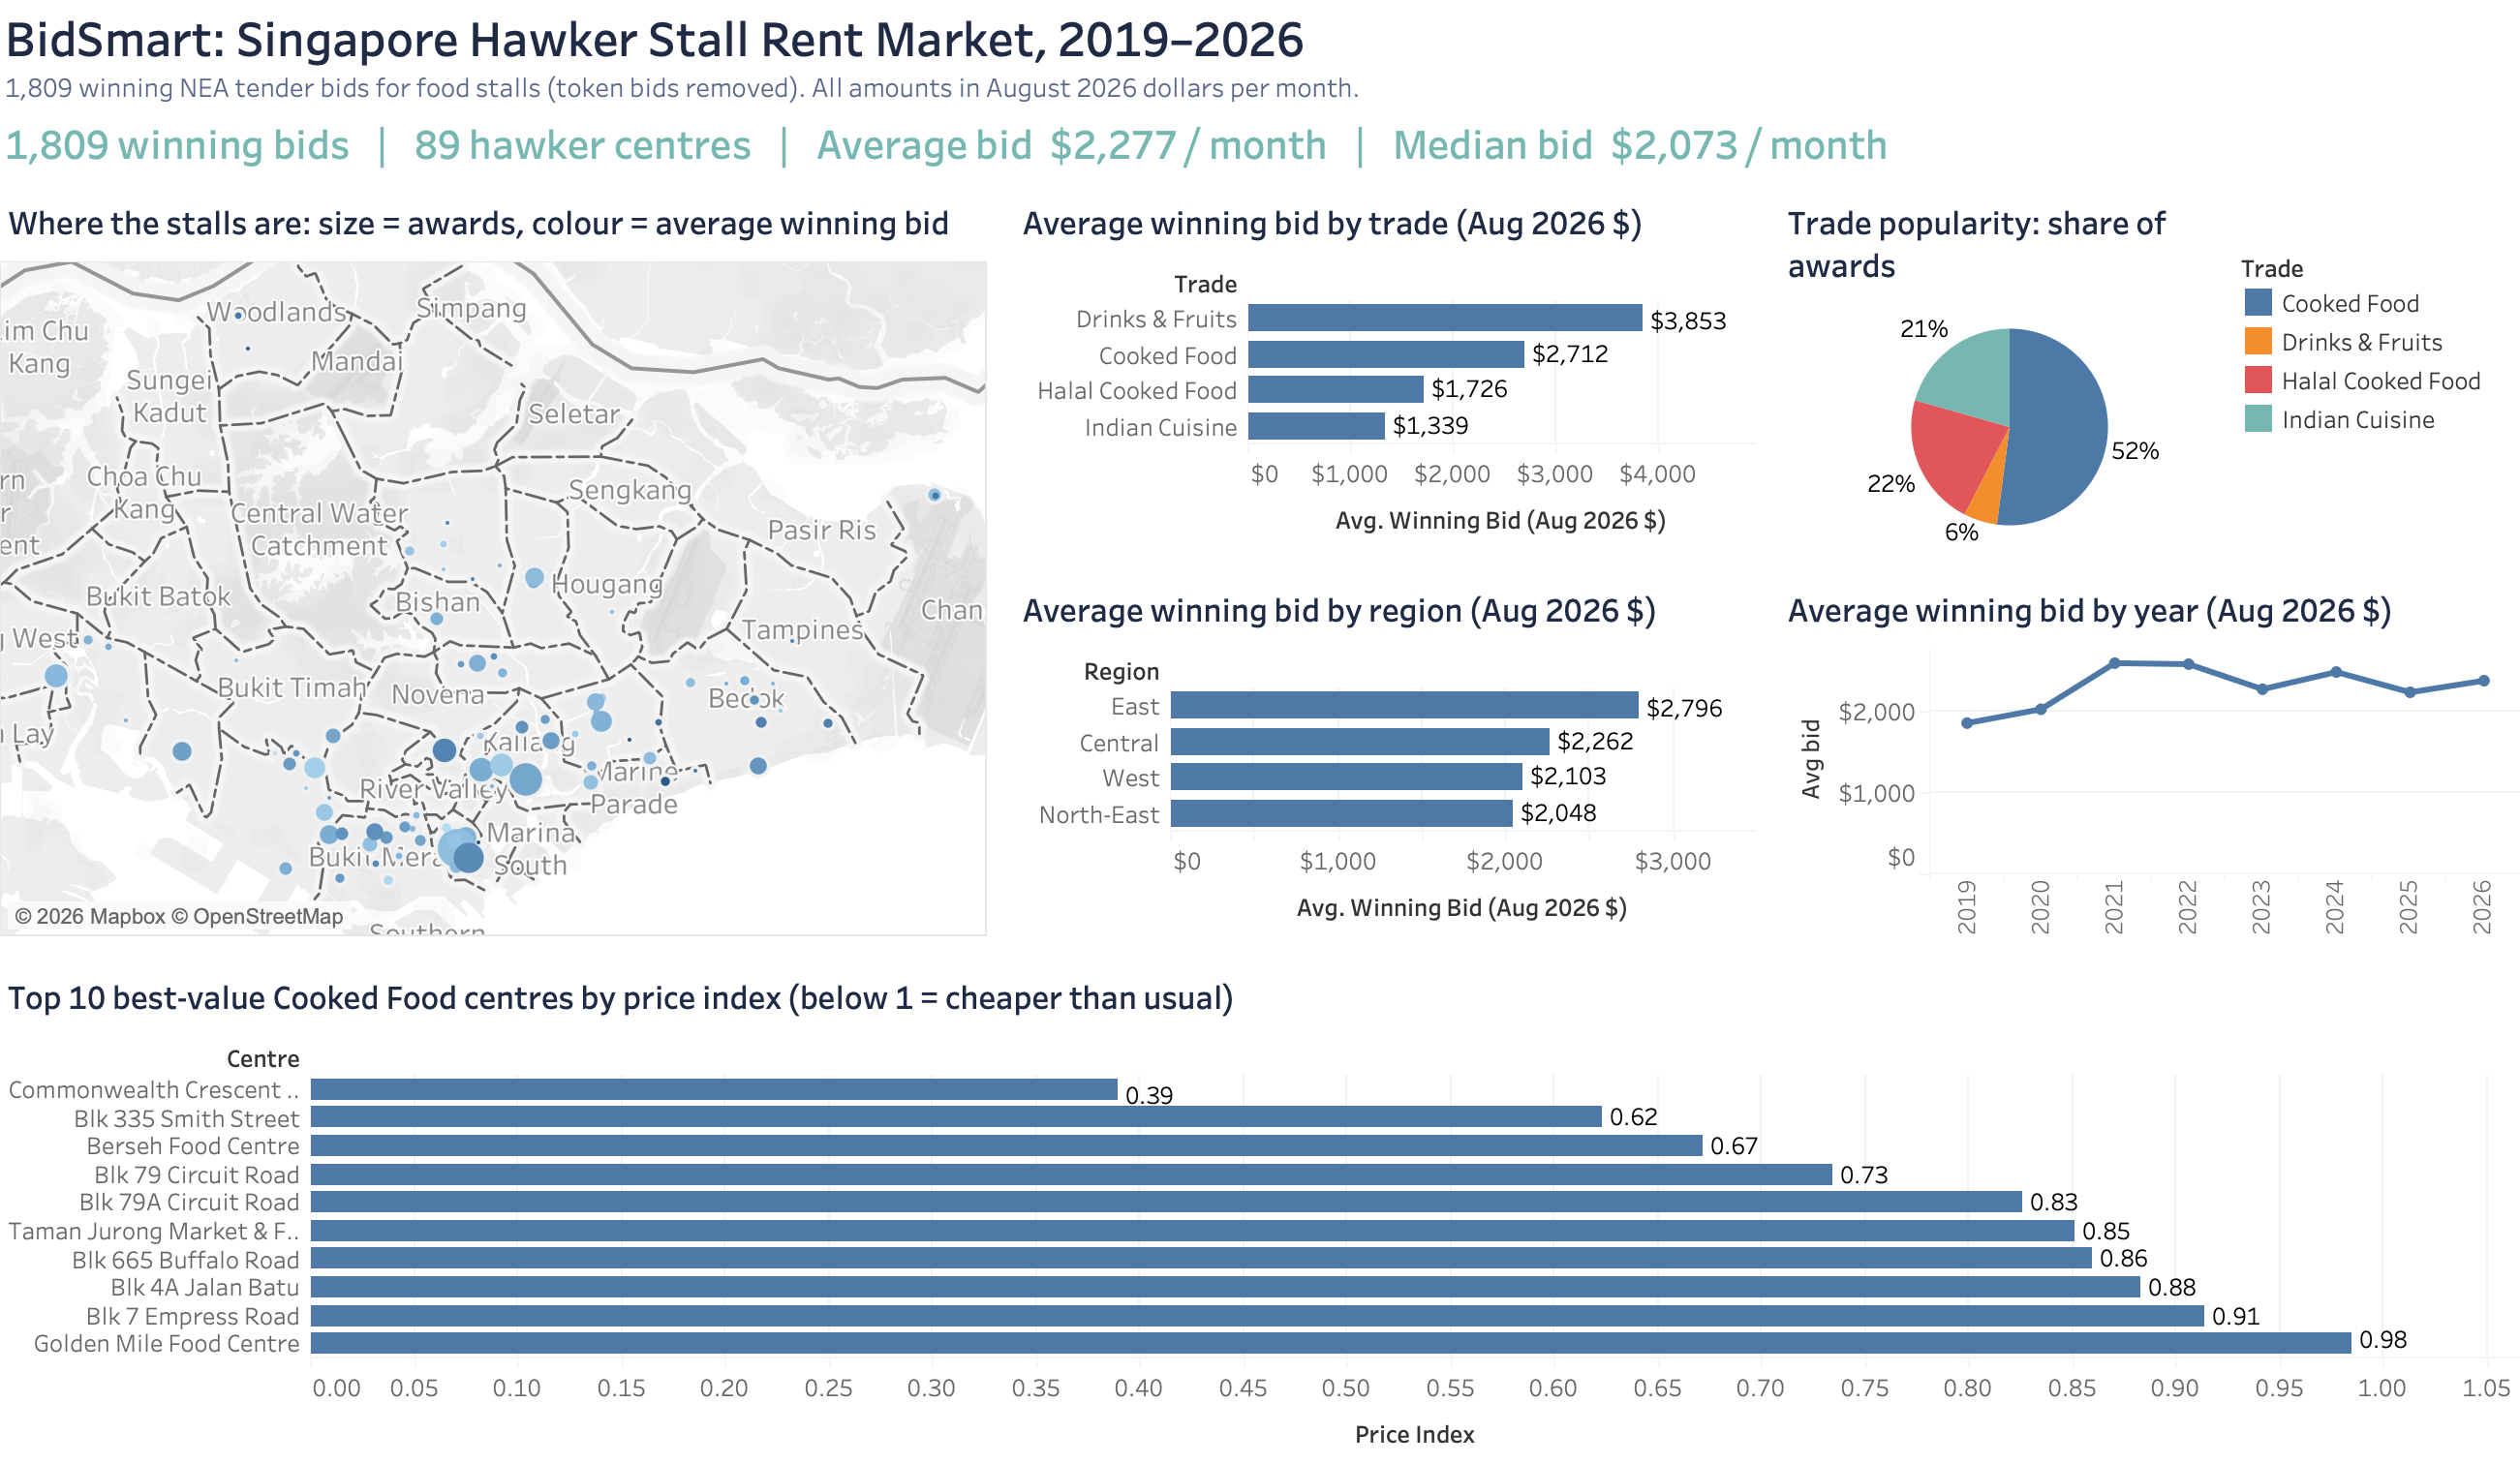

This screenshot's page, from the dashboard's own definition file:
{"tool":"tableau","page":{"name":"BidSmart Market Dashboard","canvas":[1000,1000],"units":"permille","ordinal":0},"visuals":[{"type":"text","box":[0,0,1000,75.3]},{"type":"text","box":[0,75.3,1000,45.7]},{"type":"worksheet","title":"Centre Map","mark":"Circle","rows":["Latitude"],"cols":["Longitude"],"box":[0,129,392.2,510.8]},{"type":"worksheet","title":"Bid by Trade","mark":"Bar","rows":["Trade"],"cols":["Bid_Real"],"box":[402.7,129,293.4,246]},{"type":"worksheet","title":"Trade Popularity","mark":"Pie","box":[706.6,129,181.9,246]},{"type":"legend","title":"Trade Popularity","param":"[federated.bidsmart_awards].[none:Trade:nk]","box":[888.5,169.3,111.5,201.6]},{"type":"worksheet","title":"Bid by Region","mark":"Bar","rows":["Region"],"cols":["Bid_Real"],"box":[402.7,393.8,293.4,246]},{"type":"worksheet","title":"Bid Trend","mark":"Line","rows":["Bid_Real"],"cols":["Year"],"box":[706.6,393.8,293.4,246]},{"type":"worksheet","title":"Best Value Centres","mark":"Bar","rows":["Centre"],"cols":["Price_Index"],"box":[0,658.6,1000,341.4]}]}

Visuals, with their boxes on the dashboard's canvas, which has no fixed pixel size, in thousandths of its width and height (x1, y1, x2, y2). These are canvas units, not pixel positions in the 2520x1464 screenshot, which may show the page scaled, cropped or inside an application window:
text: {"x1": 0, "y1": 0, "x2": 1000, "y2": 75}
text: {"x1": 0, "y1": 75, "x2": 1000, "y2": 121}
"Centre Map" worksheet (Circle marks): {"x1": 0, "y1": 129, "x2": 392, "y2": 640}
"Bid by Trade" worksheet (Bar marks): {"x1": 403, "y1": 129, "x2": 696, "y2": 375}
"Trade Popularity" worksheet (Pie marks): {"x1": 707, "y1": 129, "x2": 888, "y2": 375}
"Trade Popularity" legend: {"x1": 888, "y1": 169, "x2": 1000, "y2": 371}
"Bid by Region" worksheet (Bar marks): {"x1": 403, "y1": 394, "x2": 696, "y2": 640}
"Bid Trend" worksheet (Line marks): {"x1": 707, "y1": 394, "x2": 1000, "y2": 640}
"Best Value Centres" worksheet (Bar marks): {"x1": 0, "y1": 659, "x2": 1000, "y2": 1000}
